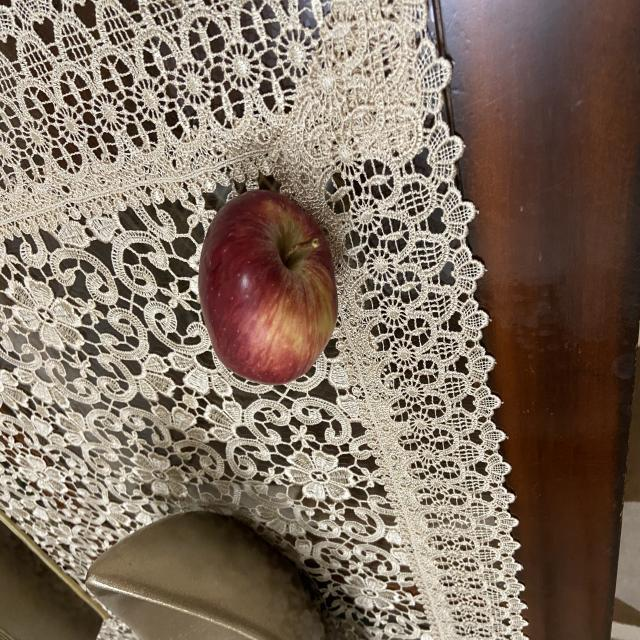apple: (193, 181, 344, 390)
